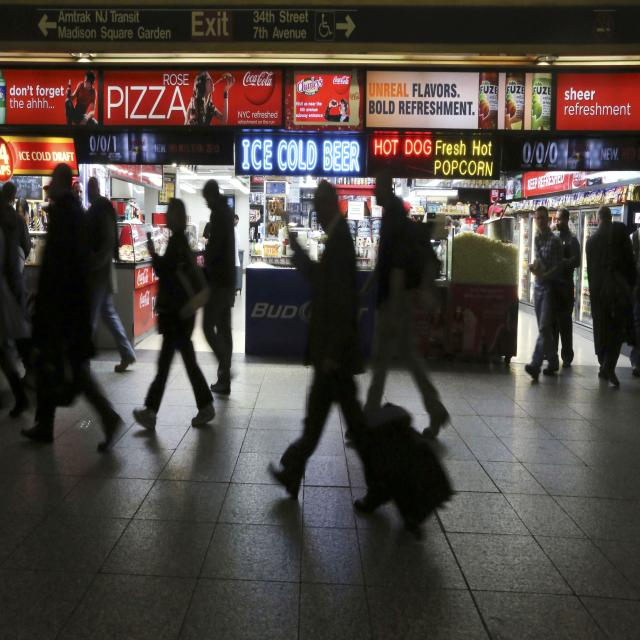body: (262, 178, 398, 520), (20, 162, 126, 452), (357, 175, 451, 438), (130, 192, 218, 436), (84, 176, 138, 374), (584, 202, 638, 389), (200, 178, 236, 396), (525, 206, 565, 382), (542, 205, 582, 372), (182, 66, 237, 131), (62, 62, 106, 132), (0, 181, 32, 260), (0, 318, 25, 418), (627, 225, 640, 374), (16, 181, 52, 232), (475, 202, 509, 244), (437, 213, 462, 259), (16, 196, 44, 232), (323, 95, 350, 131), (72, 179, 86, 210), (402, 200, 414, 222), (233, 213, 241, 230)
